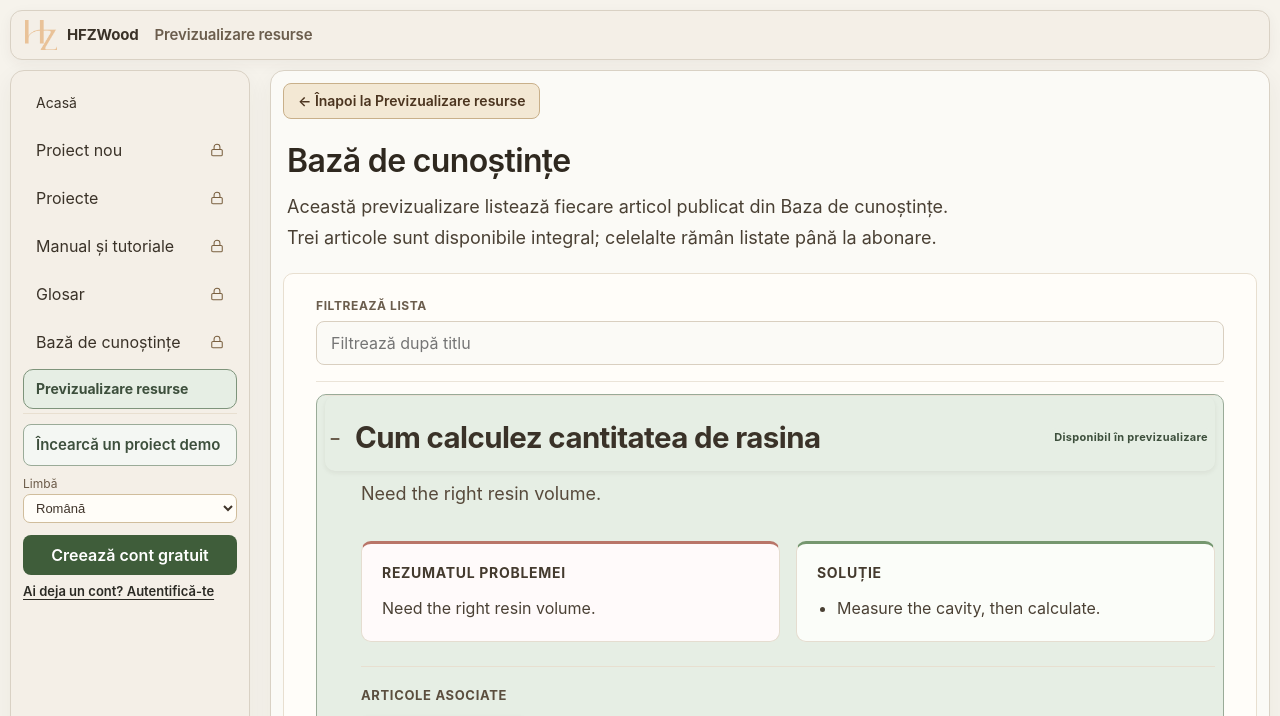
Knowledge Base public preview › selects the first remaining unlocked article when search removes the current selection
Expected: the list item "Measure the cavity, then calculate." is shown, [837,598,1100,618]
Type "bulele" into the search field labelled "Filtrează lista" at [770, 343], box [316,321,1224,365]
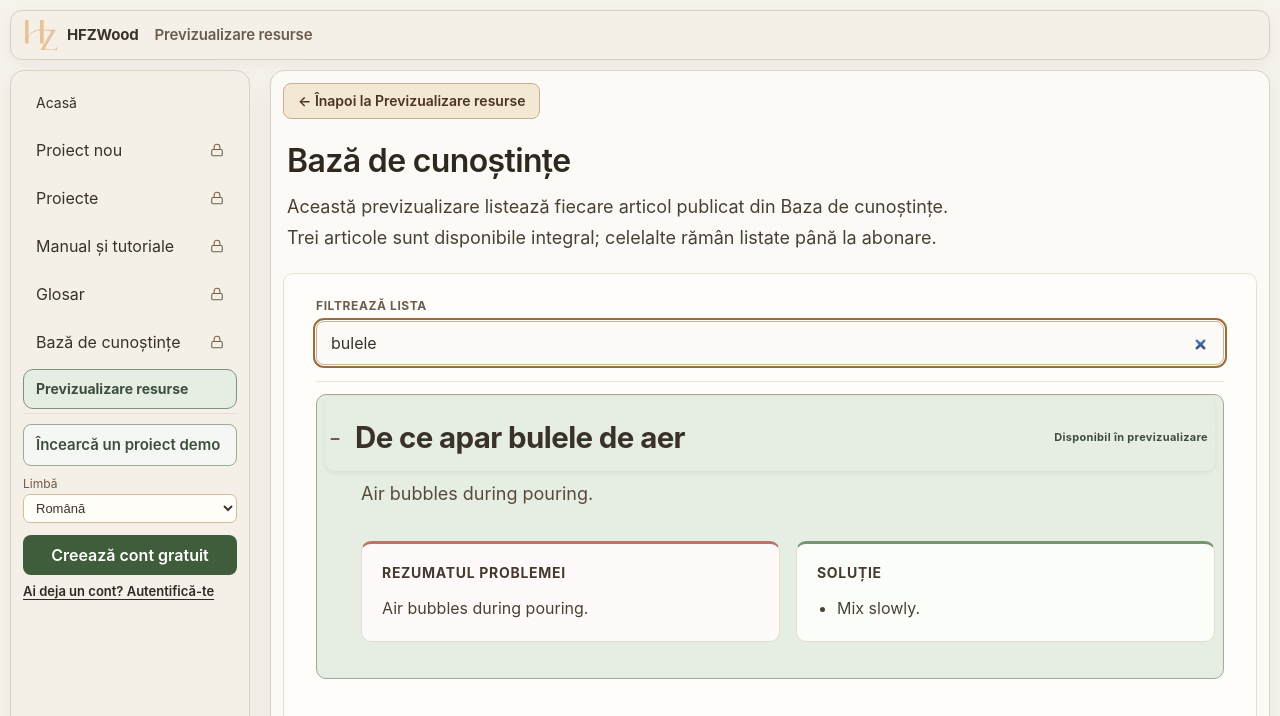
Expected: the list item "Measure the cavity, then calculate." is gone
Expected: the 1st text "Air bubbles during pouring." is shown, [361,483,593,504]
Expected: the button "− De ce apar bulele de aer Disponibil în previzualizare" is expanded, [325,396,1215,471]
